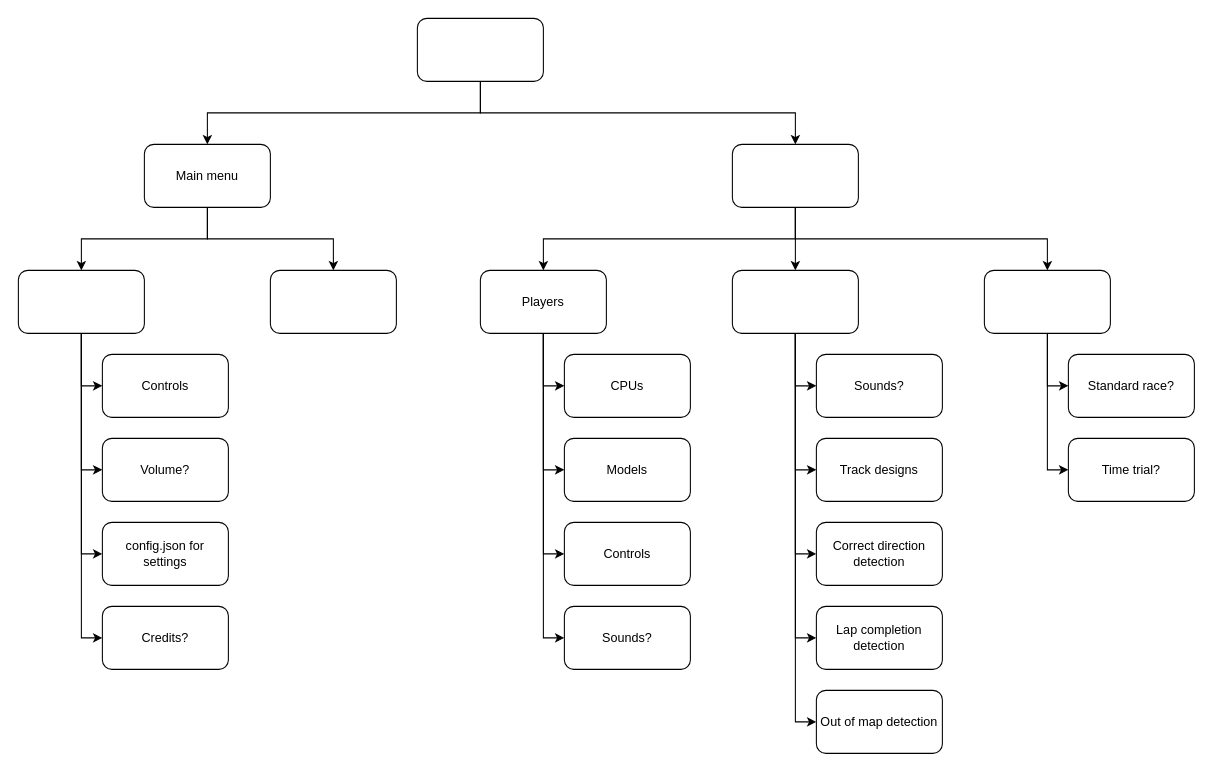
This 1213x772 diagram has some shape labels left out. The centre of each missing label's shape, as x and y in pixels:
Choose Game: pixel 332 301
Game: pixel 479 49
Game types: pixel 1046 301
Races: pixel 794 175
Settings: pixel 80 301
Tracks: pixel 794 301
